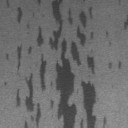red iron: (5, 0, 106, 128), (108, 61, 121, 69), (124, 16, 128, 30), (4, 0, 10, 8), (2, 80, 7, 87), (106, 30, 109, 37), (108, 41, 112, 46), (118, 0, 121, 6)
